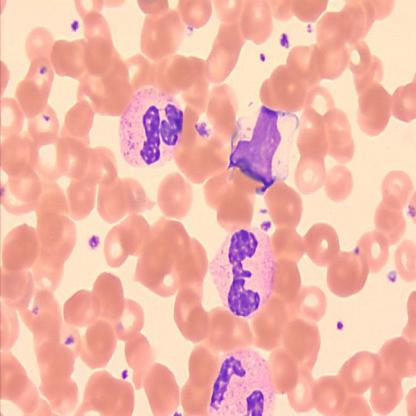Atypical lymphocyte: (228, 101, 303, 194), (208, 230, 269, 315), (120, 87, 183, 167), (209, 350, 272, 416)
